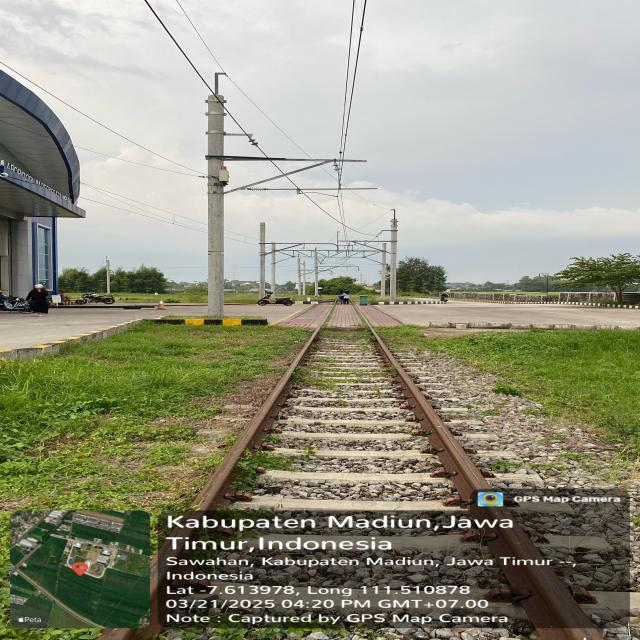rail-detection: (370, 327, 603, 640), (193, 320, 323, 514)
